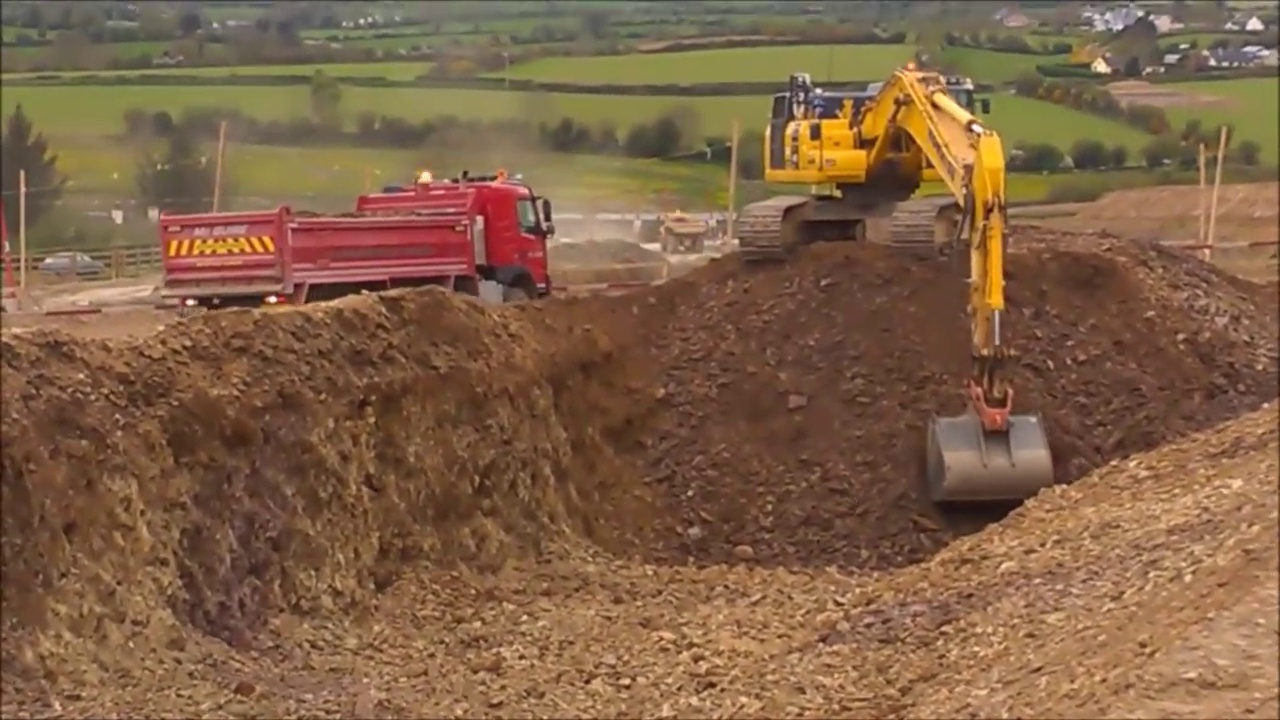dumper: (659, 205, 711, 259)
excavator: (739, 57, 1055, 507)
truck: (157, 170, 557, 322)
